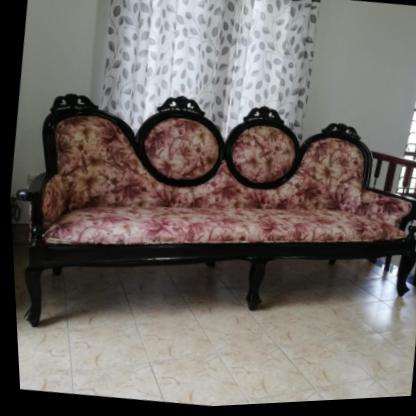Ceramic floor: (13, 315, 414, 408)
Curtains: (100, 0, 319, 133)
Sofa: (3, 66, 416, 377)
